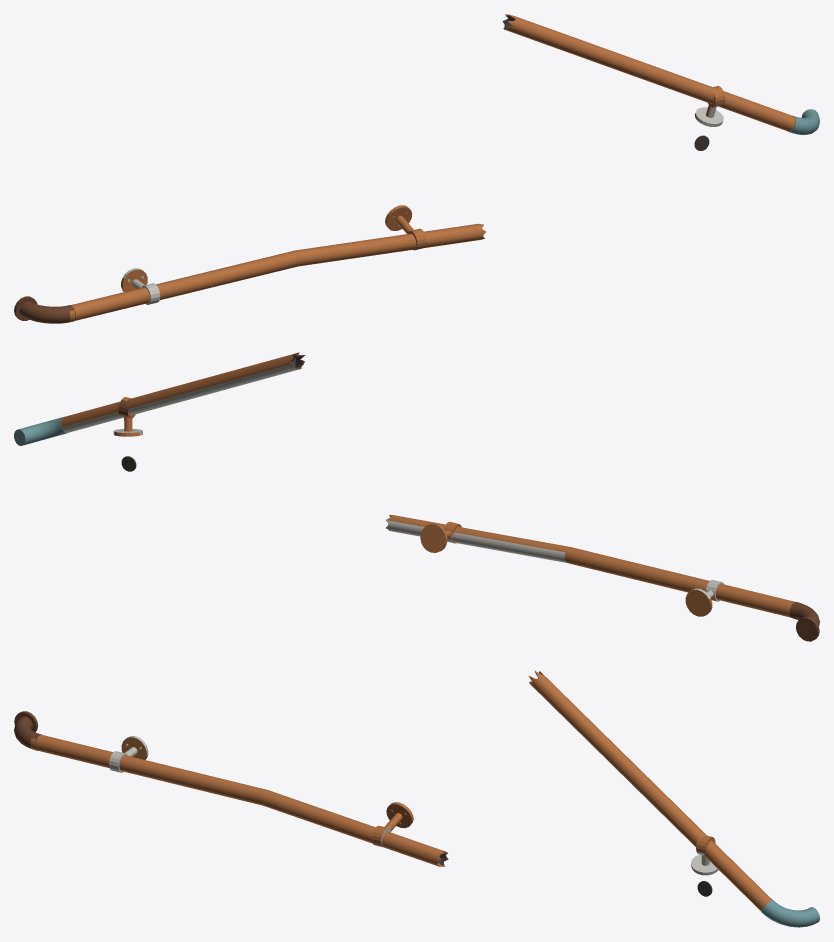
The model's file is wall_bar_v3.fbx.
3 renders of one model, top to bottom at view 1: azimuth 30°, elevation 25°; view 2: azimuth 150°, elevation 25°; view 3: azimuth 330°, elevation 25°, orthographic.
Parts seen in each view (by area): view 1: 02_Handrail_Straight_Damaged_Mesh; view 2: 02_Handrail_Straight_Damaged_Mesh; view 3: 02_Handrail_Straight_Damaged_Mesh.
Part boxes in pixels (x1,y1,x2,y2): 02_Handrail_Straight_Damaged_Mesh: (14,14,819,323); 02_Handrail_Straight_Damaged_Mesh: (14,352,819,641); 02_Handrail_Straight_Damaged_Mesh: (14,670,819,927).
Size of the model in its own units: 204 by 45.23 by 18.01.
